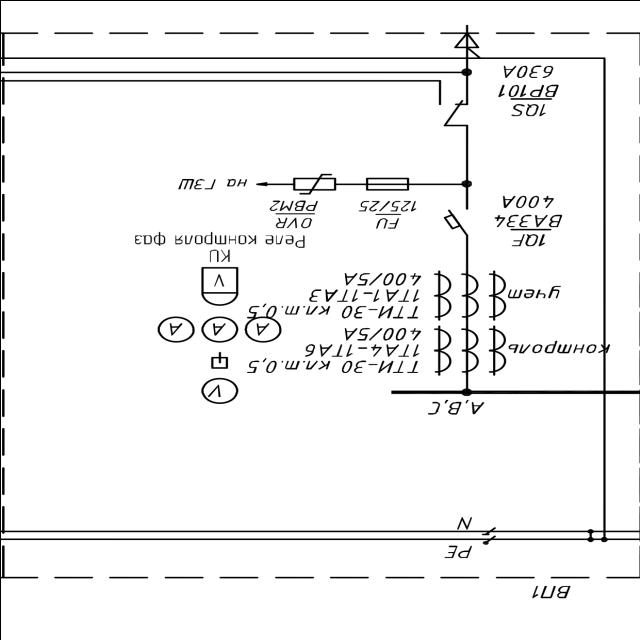-: (244, 267, 420, 320), (246, 324, 422, 376), (130, 228, 308, 264), (497, 61, 561, 97), (494, 194, 564, 226), (426, 397, 488, 419), (525, 580, 576, 604), (265, 196, 322, 212), (356, 198, 416, 212)
FU: (360, 174, 410, 192)
FV: (289, 170, 339, 196)
PA: (242, 316, 282, 344), (155, 315, 195, 342), (200, 316, 240, 342)
PV: (194, 265, 238, 307), (198, 374, 238, 404)
QF: (443, 202, 471, 238)
TT: (430, 266, 508, 320), (432, 323, 508, 377)
switch: (431, 98, 471, 128)
